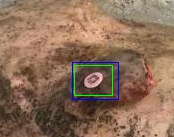text: (74, 65, 112, 95)
